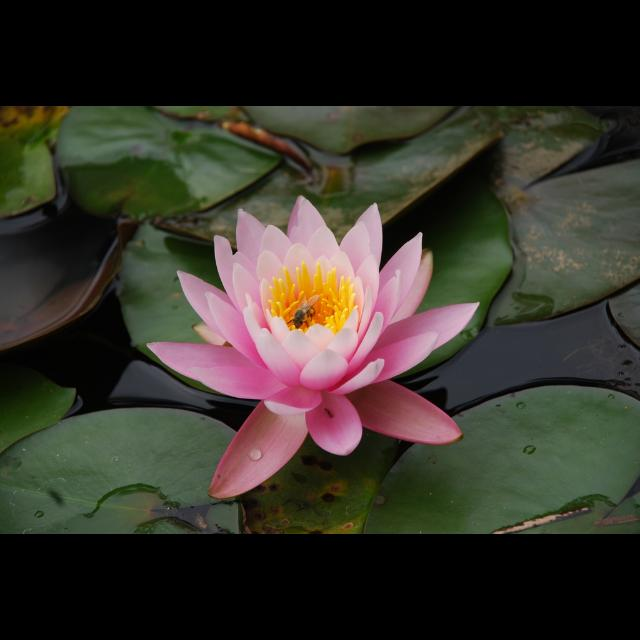Flower: (145, 195, 481, 498)
